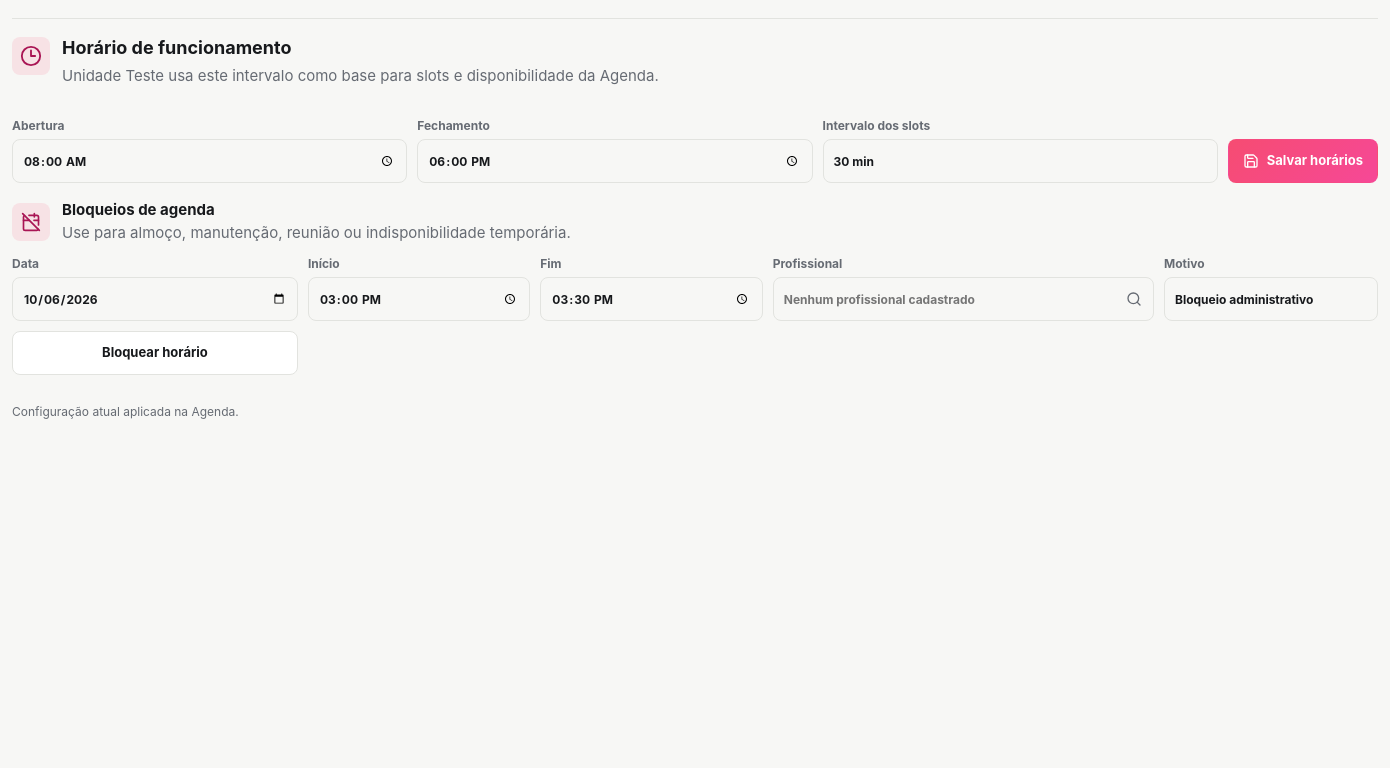
Test: BusinessHoursSettingsPanel › shows a toast and persists local settings after saving opening hours
Click the button "Salvar horários".
click(1303, 161)  # box [1228, 139, 1378, 183]
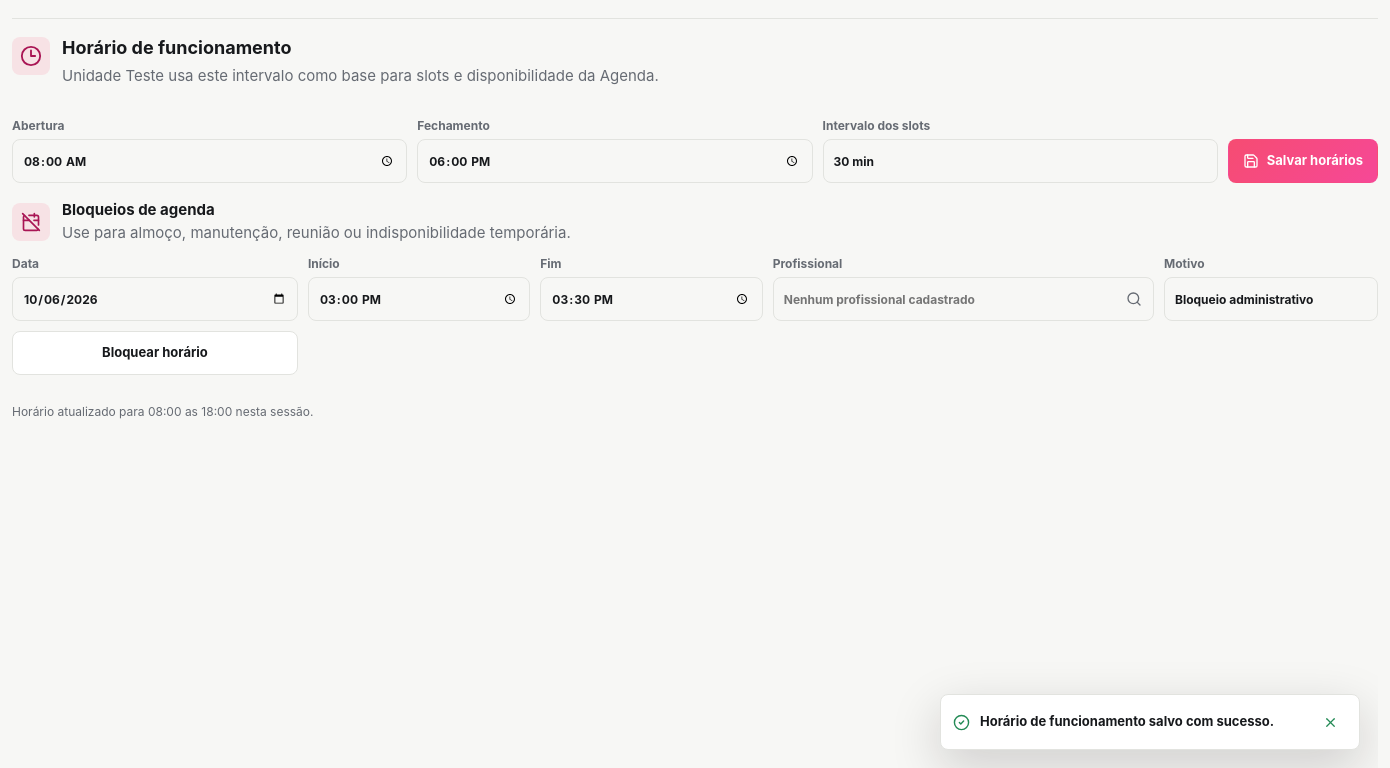
Expected: the text "Horário de funcionamento salvo com sucesso." is shown, [980, 712, 1303, 732]
